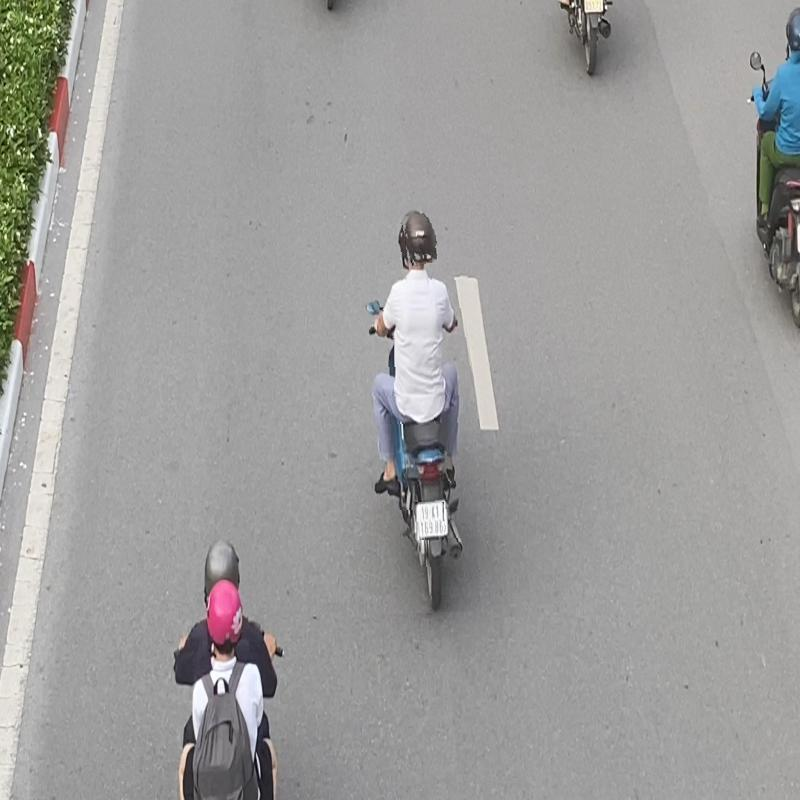helmet: (403, 213, 438, 265)
licenseplate: (415, 502, 444, 540)
motorcyclist: (362, 205, 477, 614)
